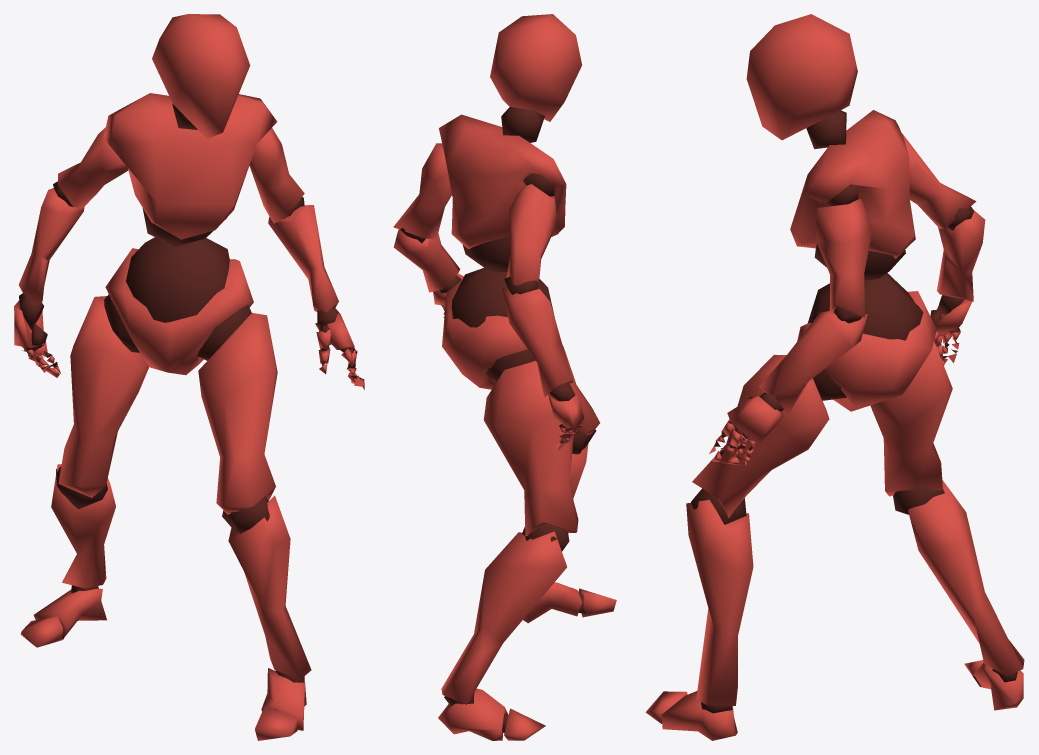
The picture shows the model from 3 angles, left to right: view 1: azimuth 30°, elevation 25°; view 2: azimuth 150°, elevation 25°; view 3: azimuth 270°, elevation 25°; orthographic projection. The views are drawn at different scales.
Parts seen in each view (by area): view 1: Beta_Surface; view 2: Beta_Surface; view 3: Beta_Surface.
Boxes of the visible parts, box(x1,y1,x2,y2) form: Beta_Surface: box(14, 14, 364, 740); Beta_Surface: box(393, 14, 616, 740); Beta_Surface: box(645, 14, 1024, 740).
Size of the model in its own units: 5.49 by 14.59 by 7.2.
